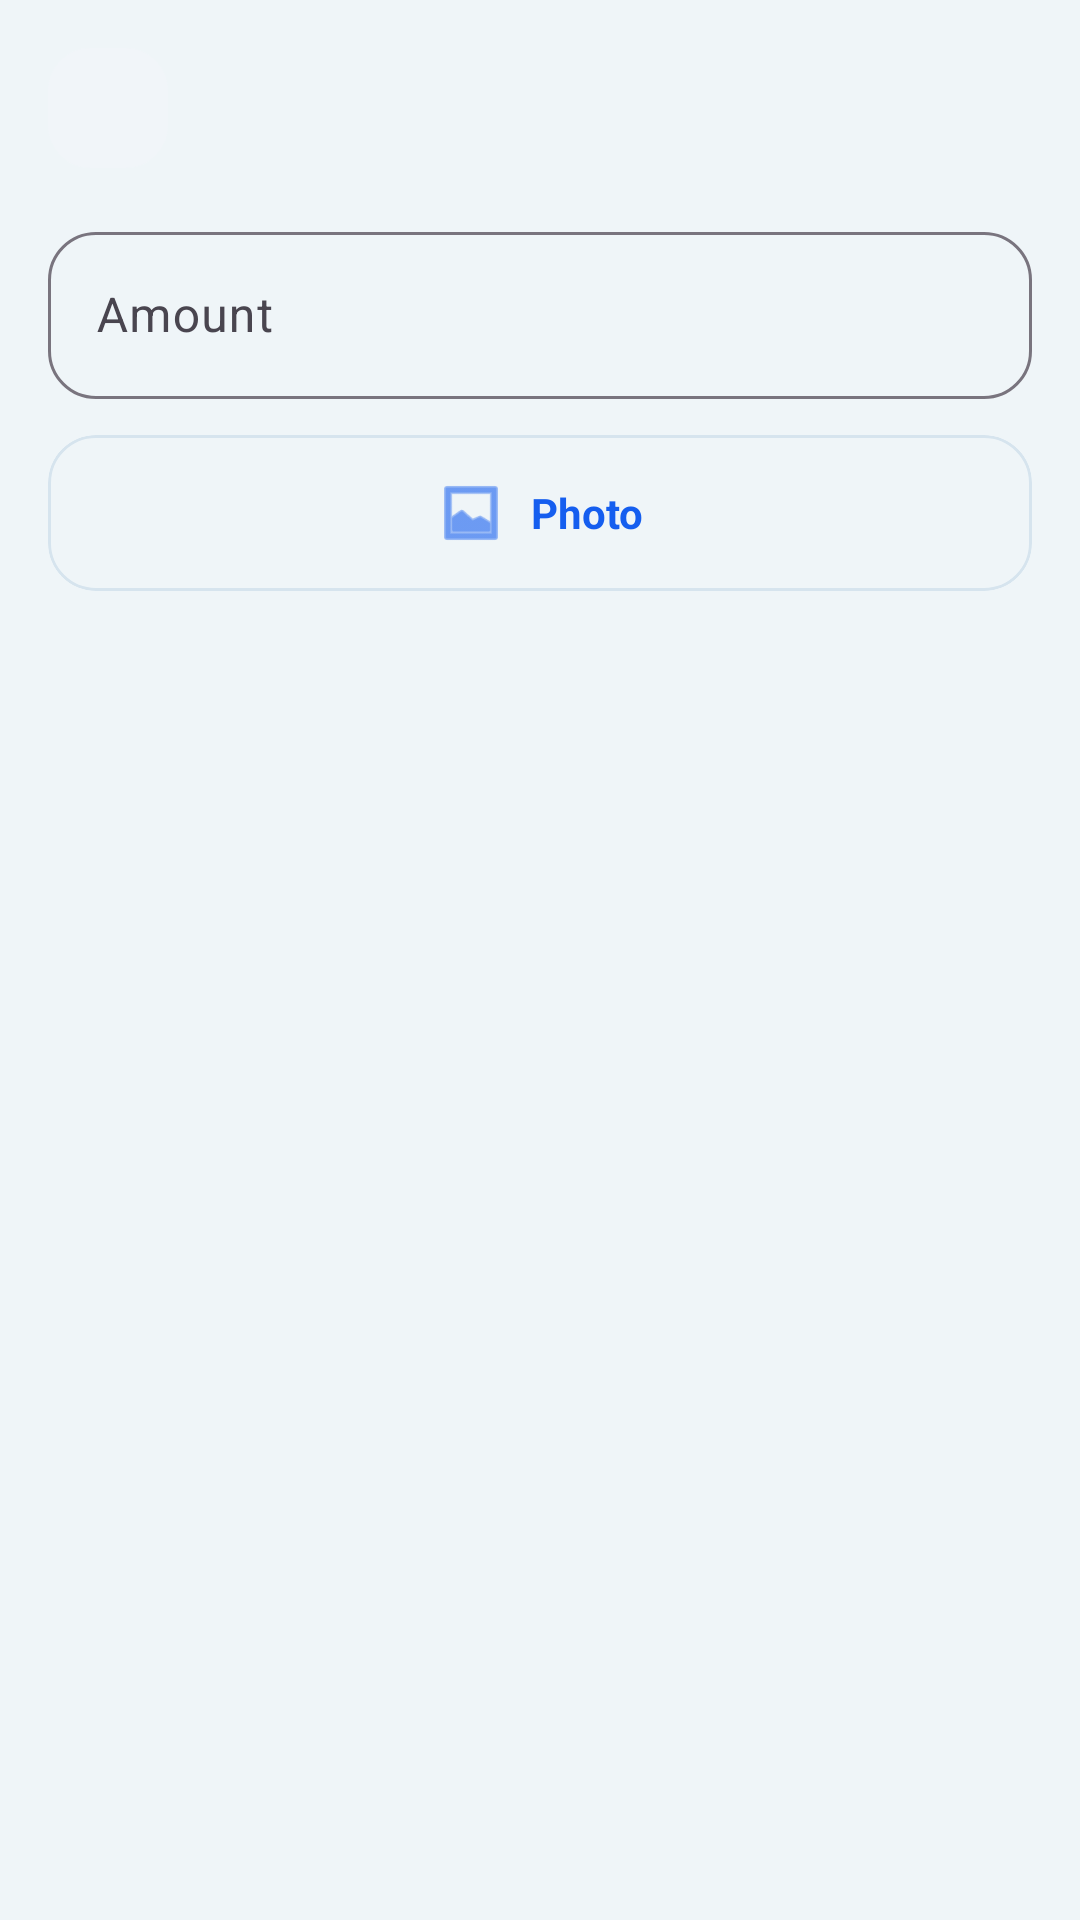

Where to tap for icons on this 1080 × 1920 app screen, as (x=x, y=y):
gallery: (x=471, y=513)
